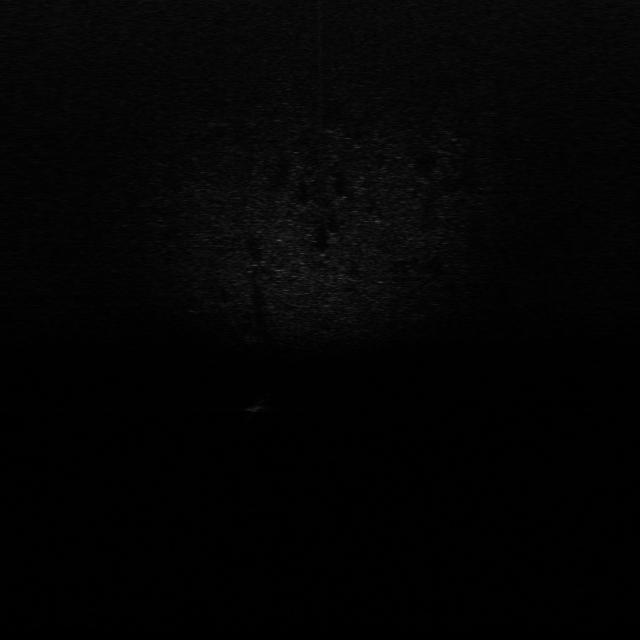human body: (244, 391, 278, 421)
